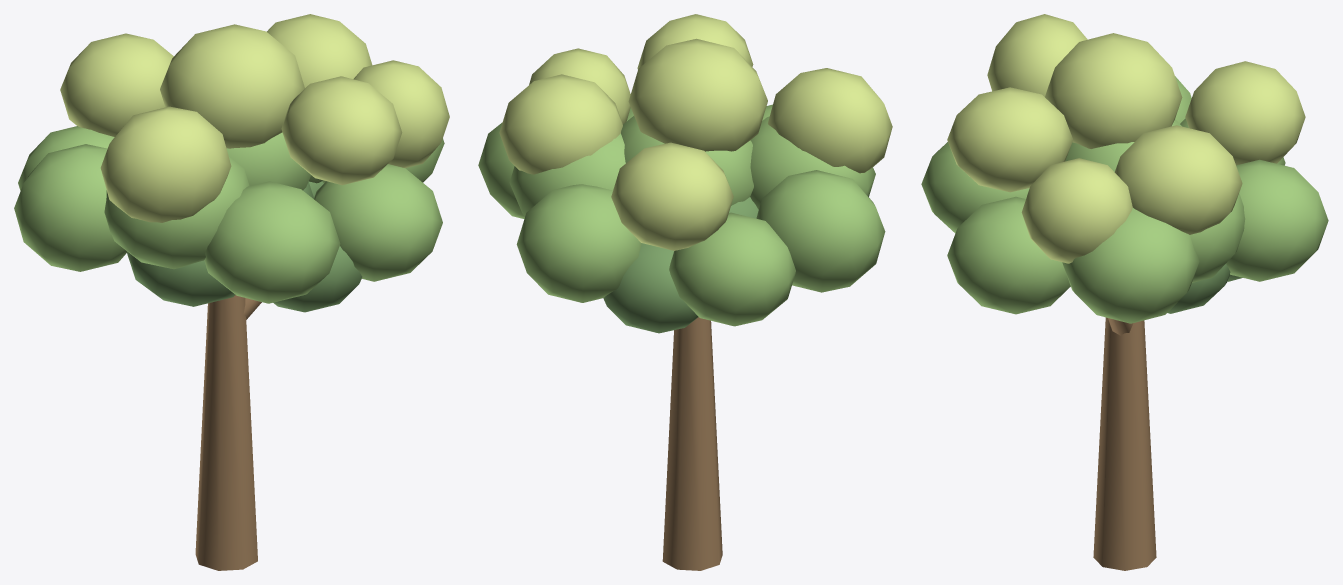
Rendered from tree_oak.gltf.
3 views of the same model, side by side, from view 1: azimuth 30°, elevation 25°; view 2: azimuth 150°, elevation 25°; view 3: azimuth 270°, elevation 25° (orthographic). The views are drawn at different scales.
Parts seen in each view (by area): view 1: OakTree; view 2: OakTree; view 3: OakTree.
Part boxes in pixels (left/top/right/bottom): OakTree: left=14, top=14, right=449, bottom=570; OakTree: left=478, top=14, right=892, bottom=570; OakTree: left=921, top=14, right=1328, bottom=570.
Bounding box in the file's own units: 8.05 × 9.95 × 7.1.
